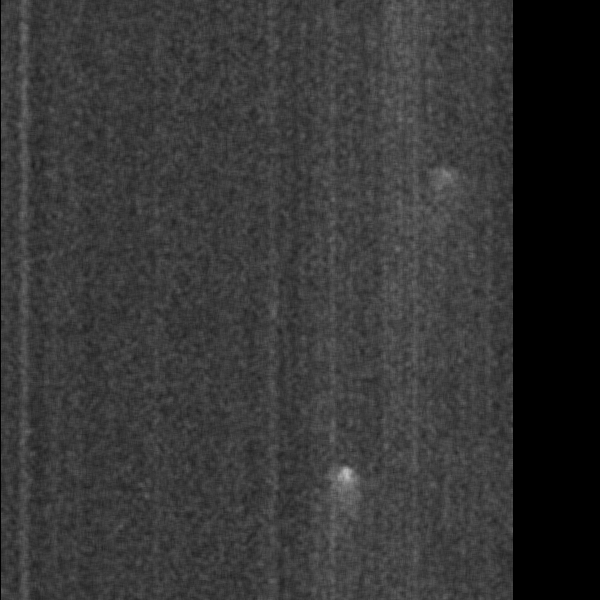spark: (321, 459, 361, 537), (428, 165, 463, 204), (383, 275, 404, 295), (388, 238, 409, 255)
